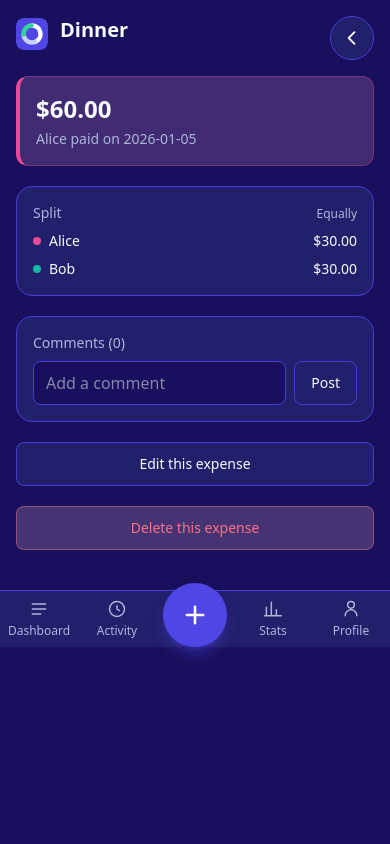
Scenario: ExpenseView › posts a comment and shows it
The image size is (390, 844).
In the field with placeholder "Add a comment": coordinates (160, 383) x1=33 y1=361 x2=286 y2=405, type "Was this the taxi?"
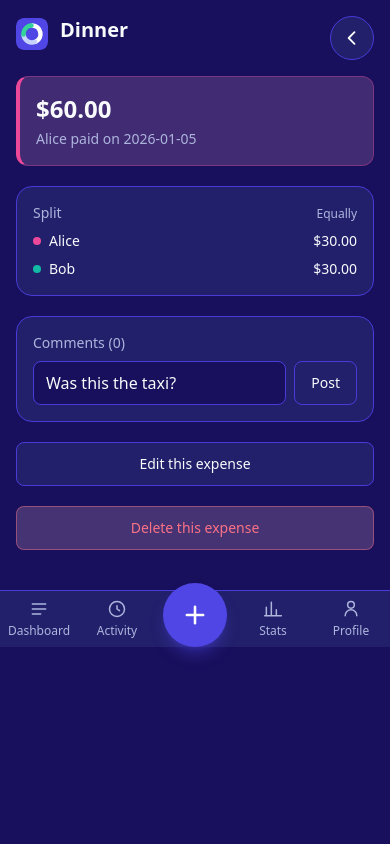
Submit the form, box x1=33 y1=361 x2=357 y2=405
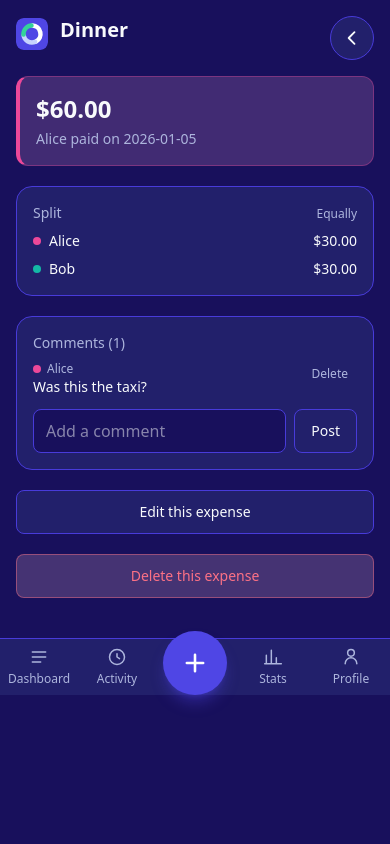
Now the text "Was this the taxi?" is shown, box x1=33 y1=377 x2=147 y2=396
Now the text "Comments (1)" is shown, box x1=33 y1=333 x2=125 y2=352
